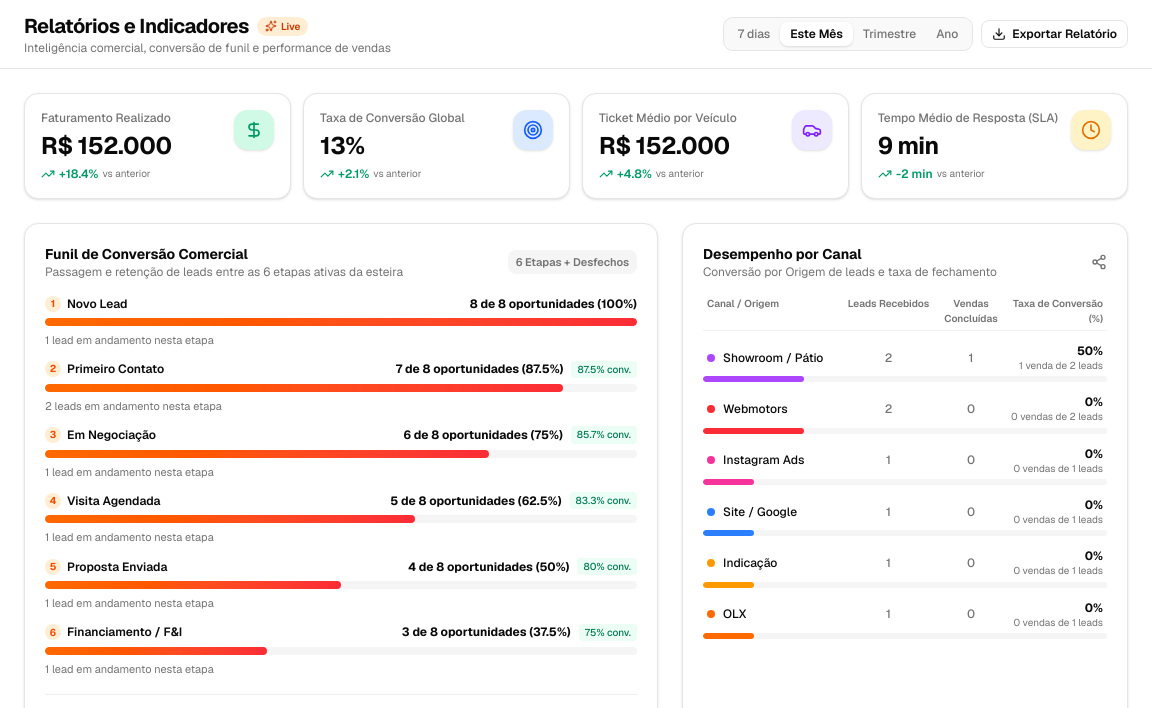
Test: [IT-08] Relatórios e Indicadores Comerciais (ReportsPage) › [IT-08.6] Deve disparar a ação de exportação de relatório e exibir feedback visual ao usuário
expect the text "Exportar Relatório" is shown: met, box [1012, 26, 1117, 42]
Note: Act (Quando o usuário clica em exportar)
Click the button with aria-label "exportar relatório consolidado" at (1055, 34), box [981, 20, 1128, 48]
Wait 500 ms
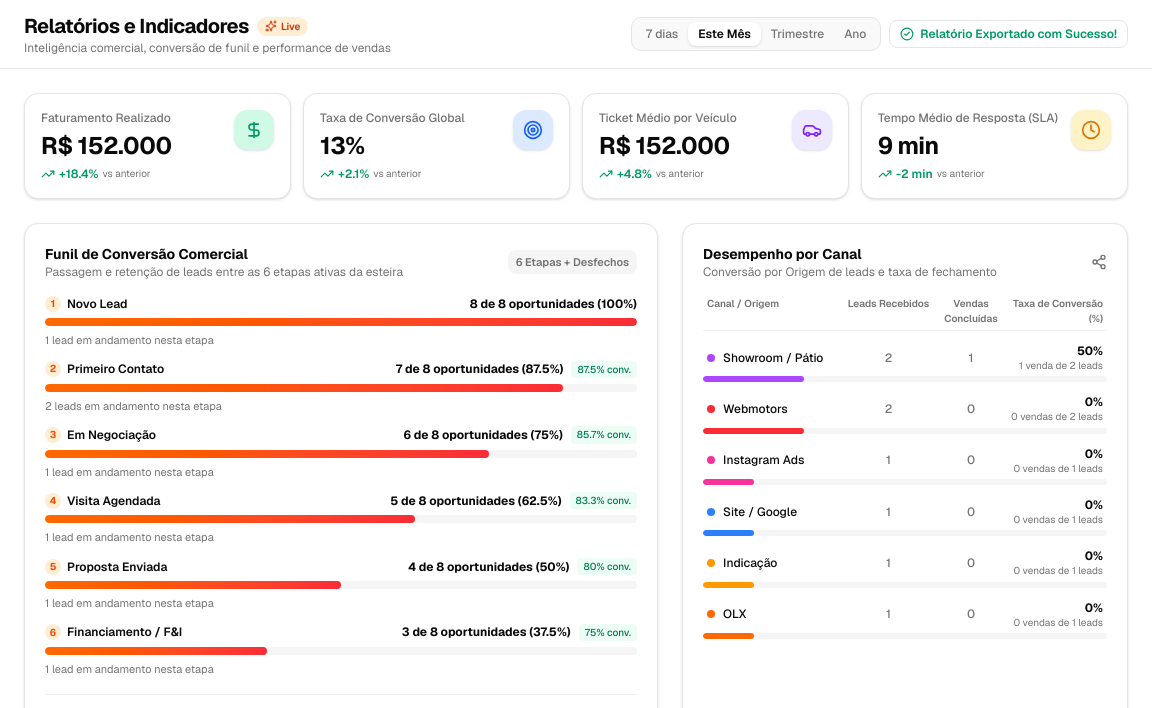
expect the text "Relatório Exportado com Sucesso!" is shown: met, box [920, 26, 1117, 42]
